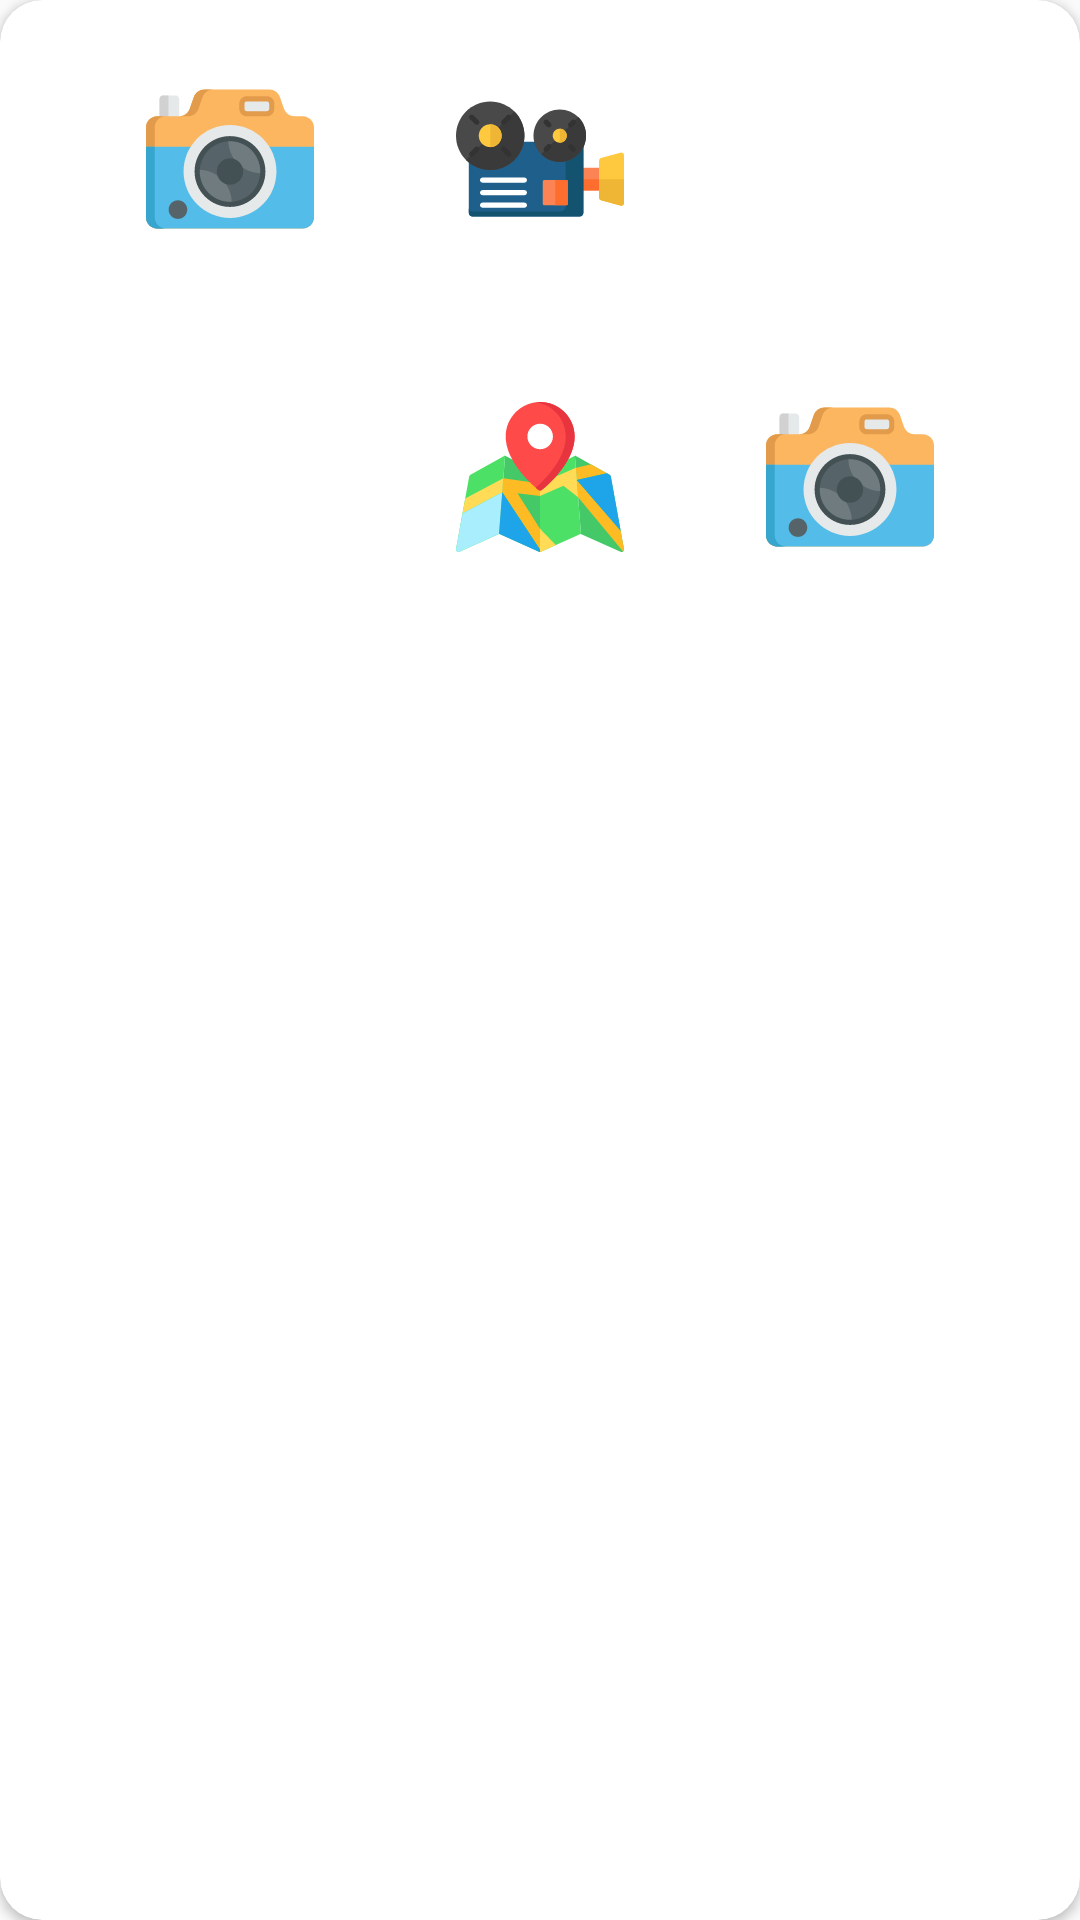

Icon click points for this 1080 × 1920 phone screenshot, format point (x, y):
camera: point (230, 159), point (850, 477)
map: point (540, 477)
video: point (540, 159)
